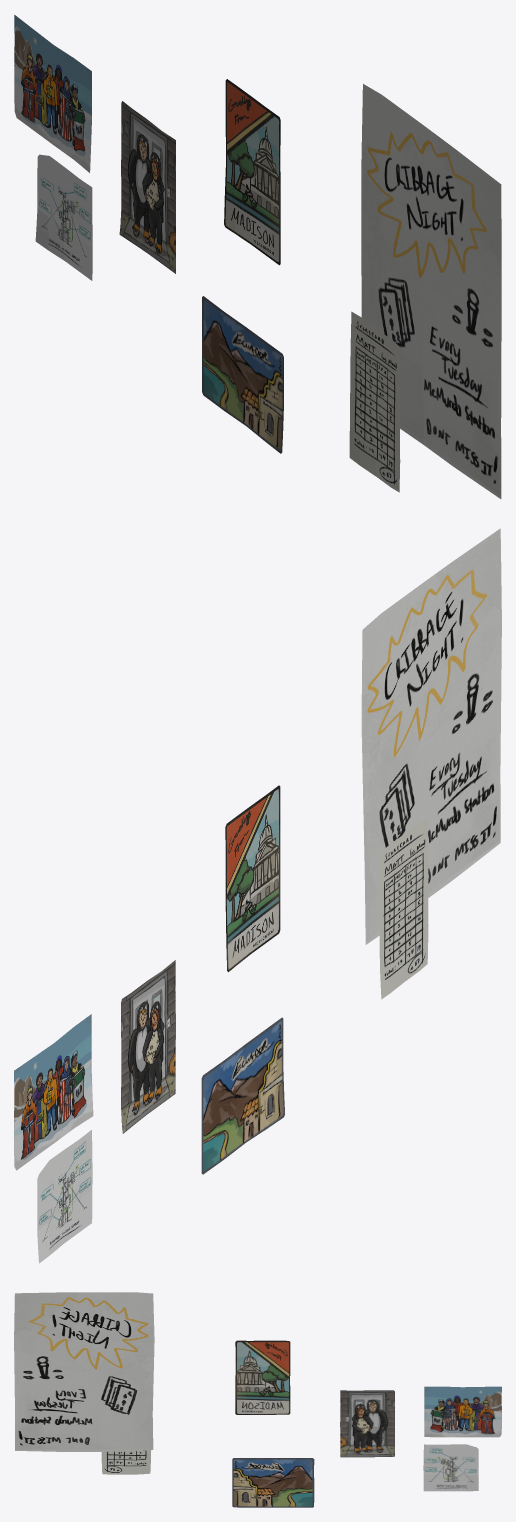
The model's file is Wall_Illustrations.fbx.
3 views of the same model, one above another, from view 1: azimuth 30°, elevation 25°; view 2: azimuth 150°, elevation 25°; view 3: azimuth 270°, elevation 25° (orthographic). The views are drawn at different scales.
Parts seen in each view (by area): view 1: Illust_Cribbage, Illust_MadisonPostcard, Illust_EcuadorPostcard, Illust_GroupPhot0, Illust_Scoresheet, Illust_MattHalloween, Illust_WSSchematic; view 2: Illust_Cribbage, Illust_EcuadorPostcard, Illust_MadisonPostcard, Illust_GroupPhot0, Illust_MattHalloween, Illust_Scoresheet, Illust_WSSchematic; view 3: Illust_Cribbage, Illust_MadisonPostcard, Illust_EcuadorPostcard, Illust_GroupPhot0, Illust_MattHalloween, Illust_WSSchematic, Illust_Scoresheet.
Part boxes in pixels (box(x1,y1,x2,y2)): Illust_Cribbage: box(361, 84, 501, 498); Illust_MadisonPostcard: box(224, 79, 280, 265); Illust_EcuadorPostcard: box(202, 296, 283, 453); Illust_GroupPhot0: box(14, 15, 91, 172); Illust_Scoresheet: box(349, 311, 400, 492); Illust_MattHalloween: box(119, 101, 175, 273); Illust_WSSchematic: box(35, 154, 92, 280); Illust_Cribbage: box(361, 528, 501, 944); Illust_EcuadorPostcard: box(201, 1017, 284, 1174); Illust_MadisonPostcard: box(225, 785, 280, 972); Illust_GroupPhot0: box(14, 1014, 93, 1170); Illust_MattHalloween: box(121, 960, 175, 1133); Illust_Scoresheet: box(379, 818, 428, 999); Illust_WSSchematic: box(37, 1130, 92, 1263); Illust_Cribbage: box(14, 1292, 154, 1451); Illust_MadisonPostcard: box(235, 1340, 290, 1414); Illust_EcuadorPostcard: box(232, 1458, 314, 1507); Illust_GroupPhot0: box(424, 1386, 501, 1437); Illust_MattHalloween: box(340, 1390, 394, 1457); Illust_WSSchematic: box(423, 1444, 478, 1491); Illust_Scoresheet: box(101, 1450, 150, 1474).
Size of the model in its own units: 0.0899 by 2.29 by 4.7.
